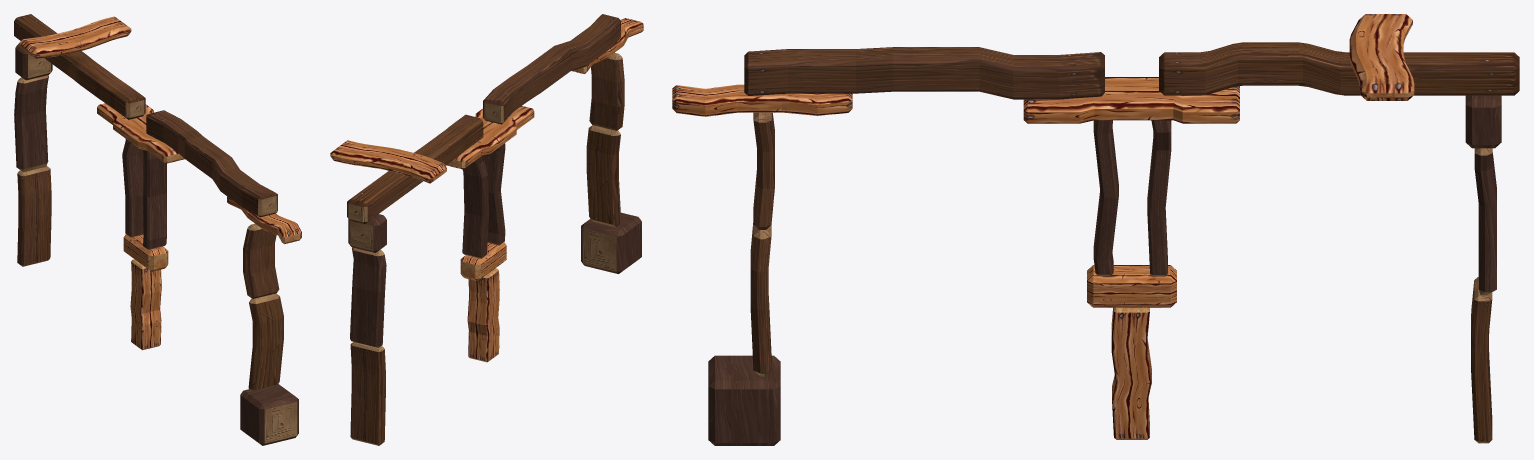
The model's file is M2_Dynamic1Wood_2kg.fbx.
3 renders of one model, left to right at view 1: azimuth 30°, elevation 25°; view 2: azimuth 150°, elevation 25°; view 3: azimuth 270°, elevation 25°, orthographic. The views are drawn at different scales.
Parts seen in each view (by area): view 1: D1Box7, D1Box6, D1Box8, D1Box9, D1Box12, D1Box13, D1Box1, D1Box15, D1Box4, D1Box14, D1Box3, D1Box5 (+3 smaller); view 2: D1Box7, D1Box6, D1Box8, D1Box9, D1Box12, D1Box13, D1Box1, D1Box15, D1Box3, D1Box14, D1Box5, D1Box4 (+3 smaller); view 3: D1Box7, D1Box6, D1Box5, D1Box13, D1Box1, D1Box15, D1Box11, D1Box2, D1Box4, D1Box3, D1Box8, D1Box12 (+3 smaller).
Part boxes in pixels (x1,y1,x2,y2): D1Box7: (146,110,277,217); D1Box6: (14,14,145,119); D1Box8: (17,166,51,266); D1Box9: (14,75,48,172); D1Box12: (248,293,283,392); D1Box13: (240,384,298,445); D1Box1: (130,259,161,350); D1Box15: (18,16,131,58); D1Box4: (143,150,166,249); D1Box14: (243,223,279,298); D1Box3: (122,139,143,237); D1Box5: (97,103,184,163); D1Box7: (483,14,620,124); D1Box6: (347,114,483,224); D1Box8: (350,342,385,445); D1Box9: (350,247,386,347); D1Box12: (586,125,621,227); D1Box13: (581,212,641,273); D1Box1: (467,268,499,362); D1Box15: (330,140,446,183); D1Box3: (462,156,488,258); D1Box14: (589,52,624,130); D1Box5: (446,106,534,169); D1Box4: (484,143,505,245); D1Box7: (744,47,1104,99); D1Box6: (1159,42,1519,95); D1Box5: (1023,77,1239,123); D1Box13: (708,355,780,445); D1Box1: (1111,307,1151,439); D1Box15: (1349,14,1414,100); D1Box11: (672,84,852,116); D1Box2: (1087,265,1176,307); D1Box4: (1093,120,1118,276); D1Box3: (1147,120,1171,276); D1Box8: (1471,277,1492,443); D1Box12: (750,223,771,376).
Size of what is drawn, in the model's own units: 10 by 24 by 47.
